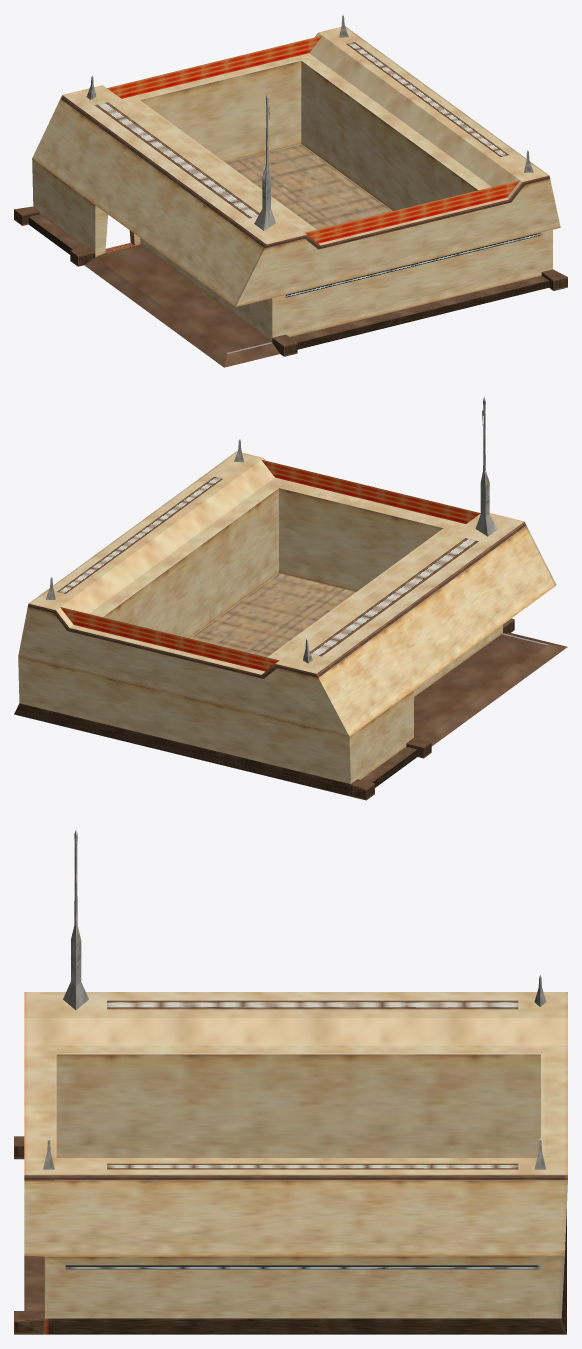
The model's file is mun_tato_shuttleport_s01_r0_mesh_l2.fbx.
3 views of the same model, one above another, from view 1: azimuth 30°, elevation 25°; view 2: azimuth 150°, elevation 25°; view 3: azimuth 270°, elevation 25° (orthographic). The views are drawn at different scales.
Parts seen in each view (by area): view 1: mesh_node; view 2: mesh_node; view 3: mesh_node.
Boxes of the visible parts, box(x1,y1,x2,y2) form: mesh_node: box(14, 14, 567, 367); mesh_node: box(14, 397, 567, 800); mesh_node: box(14, 830, 567, 1334).
Bounding box in the file's own units: 30.85 × 20.85 × 32.16.
